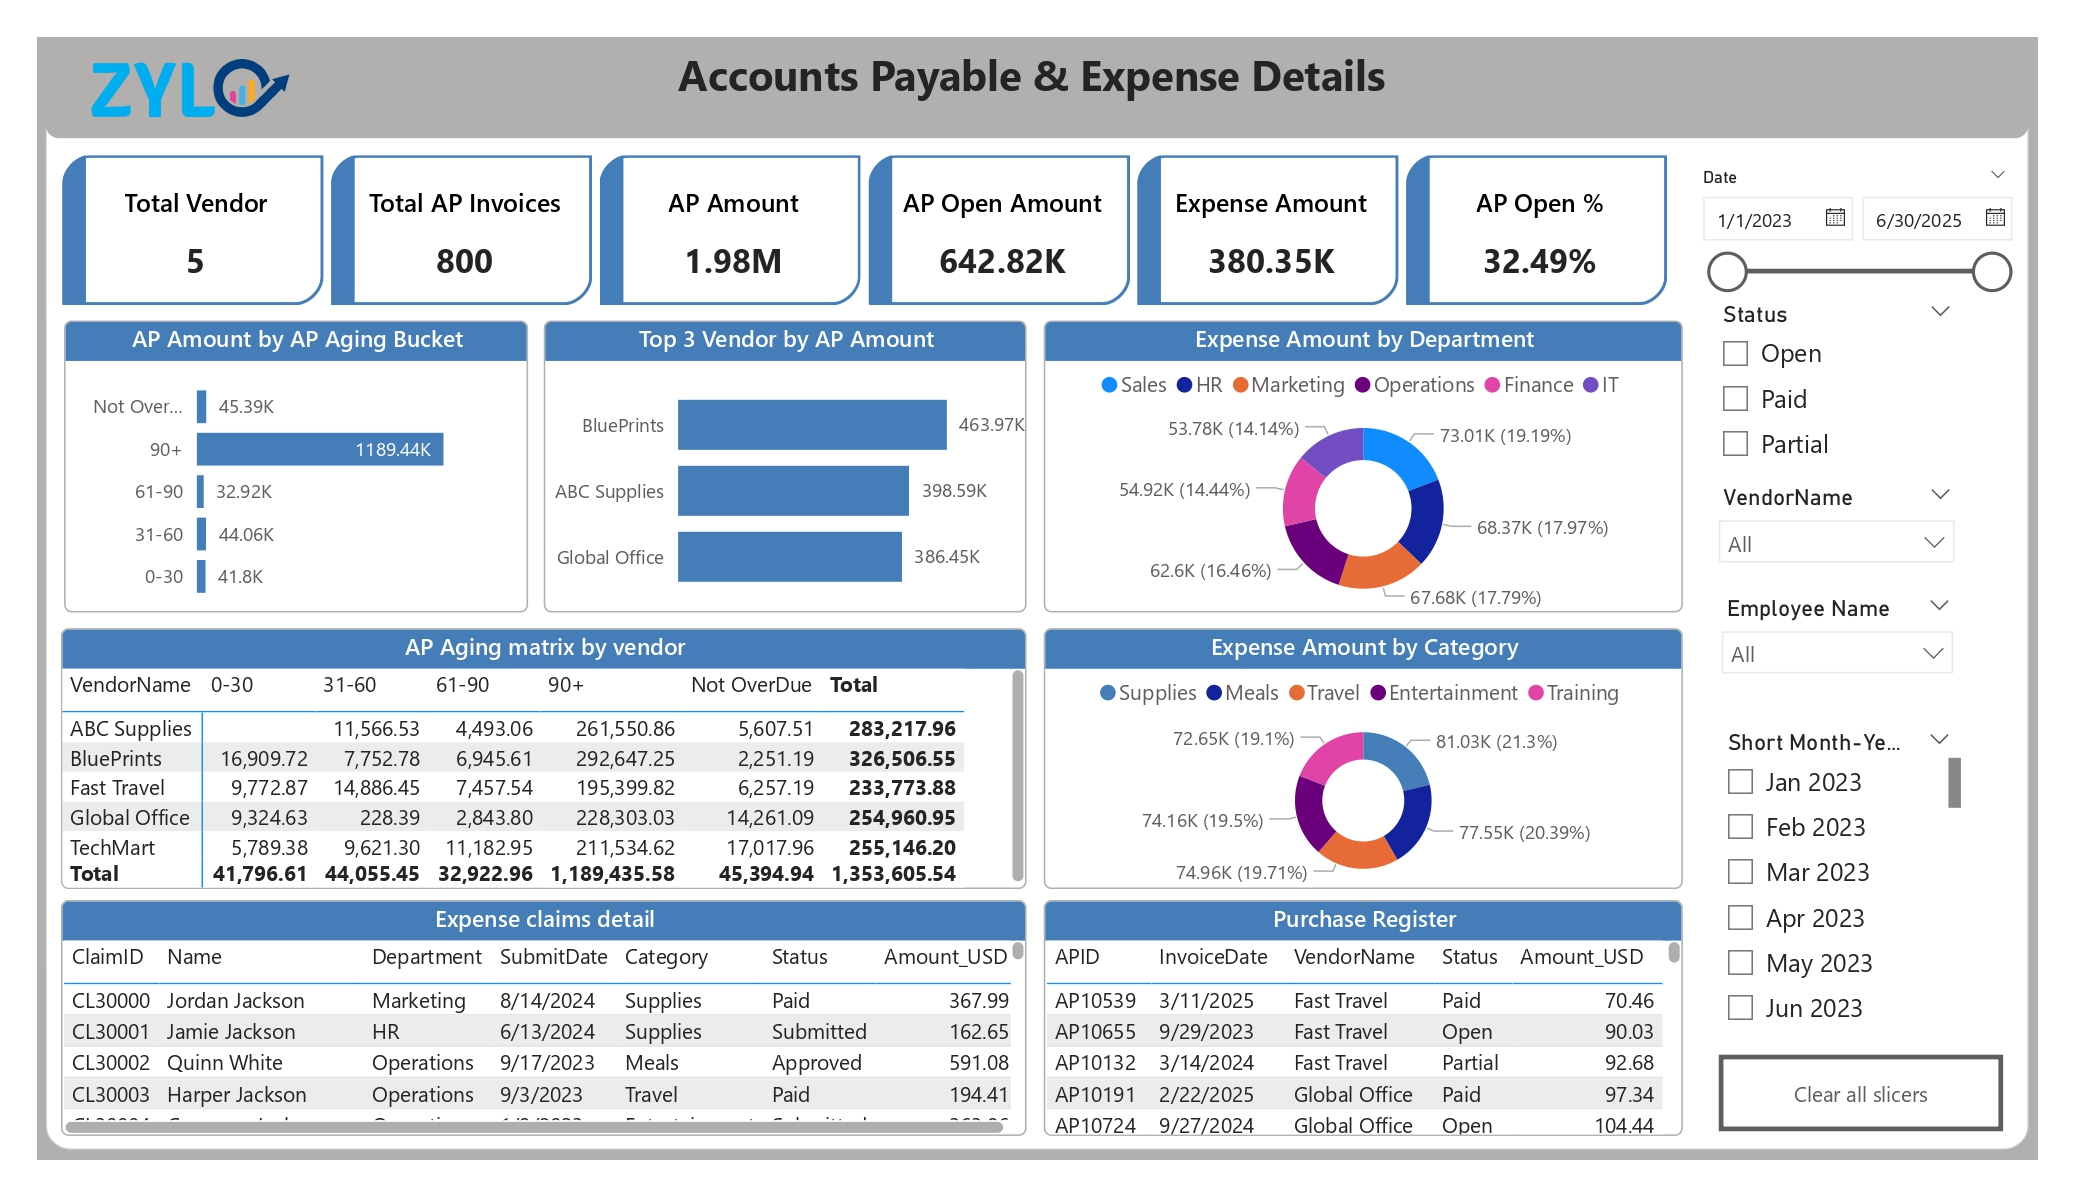

The page's visual inventory and layout, read from the dashboard file:
{"tool":"powerbi","page":{"name":"Accounts Payable & Expense Details ","canvas":[1280,720],"ordinal":2},"visuals":[{"type":"slicer","fields":{"Values":["Dim_Date.Short Month-Year"]},"box":[1068.9,437.7,167.3,196.5],"z":1000},{"type":"slicer","fields":{"Values":["Accounts-Payable.Status"]},"box":[1066,164.4,171.2,128.4],"z":2000},{"type":"slicer","fields":{"Values":["Dim_Vendor.VendorName"]},"box":[1066,281.1,171.2,78.8],"z":3000},{"type":"slicer","fields":{"Values":["Dim_Employee.Name"]},"box":[1068,352.1,168.3,85.6],"z":4000},{"type":"clusteredBarChart","fields":{"Category":["Accounts-Payable.AP Aging Bucket"],"Y":["_Measures.# AP Amount"]},"box":[16.5,180.9,297.6,186.7],"z":6000},{"type":"pivotTable","title":"AP Aging matrix by vendor","fields":{"Rows":["Dim_Vendor.VendorName"],"Columns":["Accounts-Payable.AP Aging Bucket"],"Values":["_Measures.# AP Amount"]},"box":[14.6,378.4,618.6,166.3],"z":7000},{"type":"clusteredBarChart","title":"Top 3 Vendor by AP Amount","fields":{"Category":["Dim_Vendor.VendorName"],"Y":["_Measures.# AP Amount"]},"box":[323.9,180.9,309.3,186.7],"z":8000},{"type":"tableEx","title":"Purchase Register","fields":{"Values":["Accounts-Payable.APID","Accounts-Payable.InvoiceDate","Dim_Vendor.VendorName","Accounts-Payable.Status","Accounts-Payable.Amount_USD"]},"box":[643.9,552.5,409.5,150.8],"z":9000},{"type":"donutChart","fields":{"Category":["Expense-Claims.Category"],"Y":["_Measures.# Expense Amount"]},"box":[643.9,378.4,409.5,166.3],"z":10000},{"type":"donutChart","fields":{"Category":["Dim_Employee.Department"],"Y":["_Measures.# Expense Amount"]},"box":[643.9,180.9,409.5,186.7],"z":11000},{"type":"tableEx","title":"Expense claims detail","fields":{"Values":["Expense-Claims.ClaimID","Dim_Employee.Name","Dim_Employee.Department","Expense-Claims.SubmitDate","Expense-Claims.Category","Expense-Claims.Status","Expense-Claims.Amount_USD"]},"box":[14.6,552.5,618.6,150.8],"z":12000},{"type":"textbox","box":[344.3,0,591.4,60],"z":12001},{"type":"cardVisual","fields":{"Data":["_Measures.# Total Vendor","_Measures.# Total AP Invoices","_Measures.# AP Amount","_Measures.# AP Open Amount","_Measures.# Expense Amount","_Measures.# AP Open %"]},"box":[6.2,65.3,1046.8,116.1],"z":12002},{"type":"slicer","fields":{"Values":["Dim_Date.Date"]},"box":[1053.4,77.8,218.8,89.5],"z":12003},{"type":"actionButton","box":[1075.7,650.7,181.9,49.6],"z":12004}]}

Visuals, with their boxes on the page's 1280x720 design canvas (x1, y1, x2, y2). These are canvas units, not pixel positions in the 2075x1200 screenshot, which may show the page scaled, cropped or inside an application window:
slicer - Dim_Date.Short Month-Year: rect(1069, 438, 1236, 634)
slicer - Accounts-Payable.Status: rect(1066, 164, 1237, 293)
slicer - Dim_Vendor.VendorName: rect(1066, 281, 1237, 360)
slicer - Dim_Employee.Name: rect(1068, 352, 1236, 438)
clusteredBarChart - Accounts-Payable.AP Aging Bucket x _Measures.# AP Amount: rect(16, 181, 314, 368)
"AP Aging matrix by vendor" pivotTable: rect(15, 378, 633, 545)
"Top 3 Vendor by AP Amount" clusteredBarChart: rect(324, 181, 633, 368)
"Purchase Register" tableEx: rect(644, 552, 1053, 703)
donutChart - Expense-Claims.Category x _Measures.# Expense Amount: rect(644, 378, 1053, 545)
donutChart - Dim_Employee.Department x _Measures.# Expense Amount: rect(644, 181, 1053, 368)
"Expense claims detail" tableEx: rect(15, 552, 633, 703)
textbox: rect(344, 0, 936, 60)
cardVisual - _Measures.# Total Vendor x _Measures.# Total AP Invoices: rect(6, 65, 1053, 181)
slicer - Dim_Date.Date: rect(1053, 78, 1272, 167)
actionButton: rect(1076, 651, 1258, 700)
